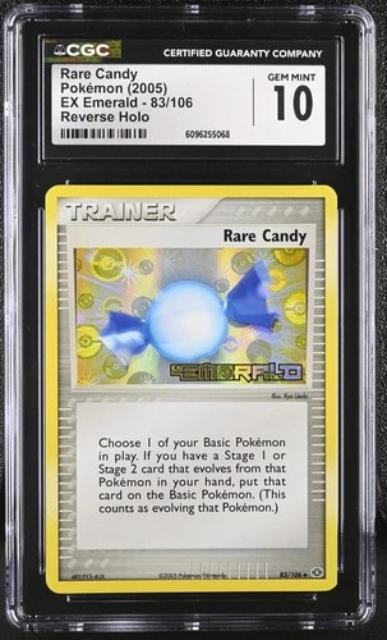Card: (38, 182, 345, 598)
Name: (218, 222, 312, 251)
